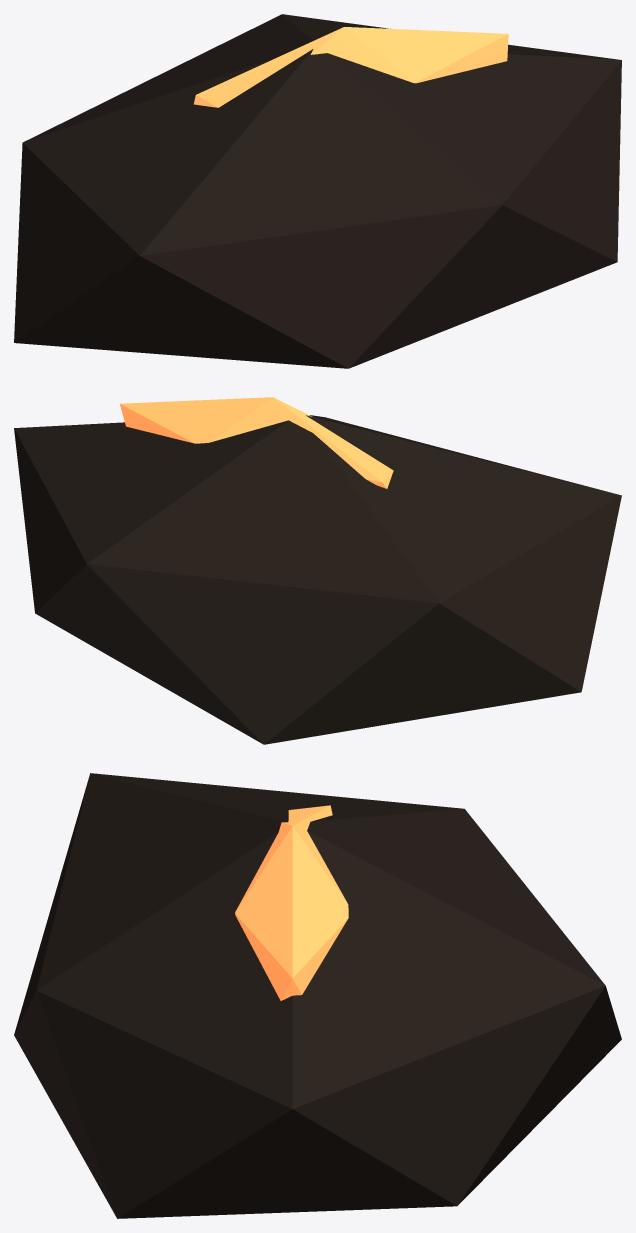
Rendered from magma_vent.glb.
3 renders of one model, top to bottom at view 1: azimuth 30°, elevation 25°; view 2: azimuth 150°, elevation 25°; view 3: azimuth 270°, elevation 25°, orthographic. The views are drawn at different scales.
Visible parts, largest first — view 1: MagmaVent; view 2: MagmaVent; view 3: MagmaVent.
Part boxes in pixels (x1,y1,x2,y2): MagmaVent: (14, 14, 621, 368); MagmaVent: (14, 397, 621, 744); MagmaVent: (14, 773, 621, 1218).
Bounding box in the file's own units: 0.2262 × 0.0996 × 0.1637.
